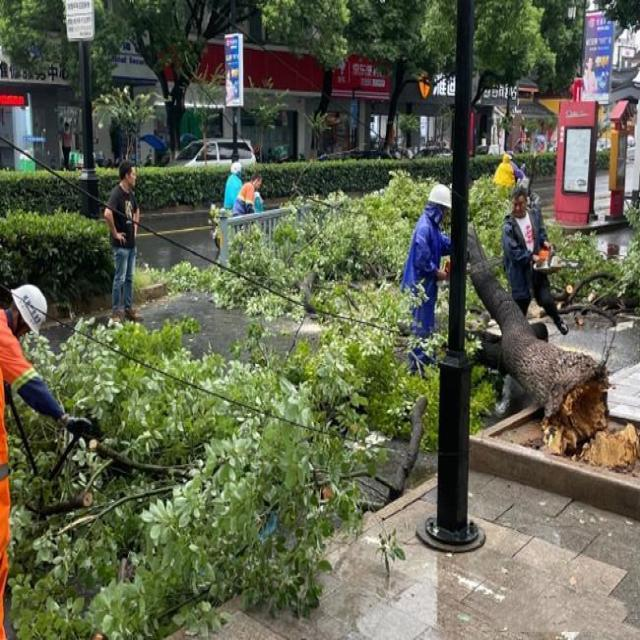fallen_object: (374, 161, 606, 463)
